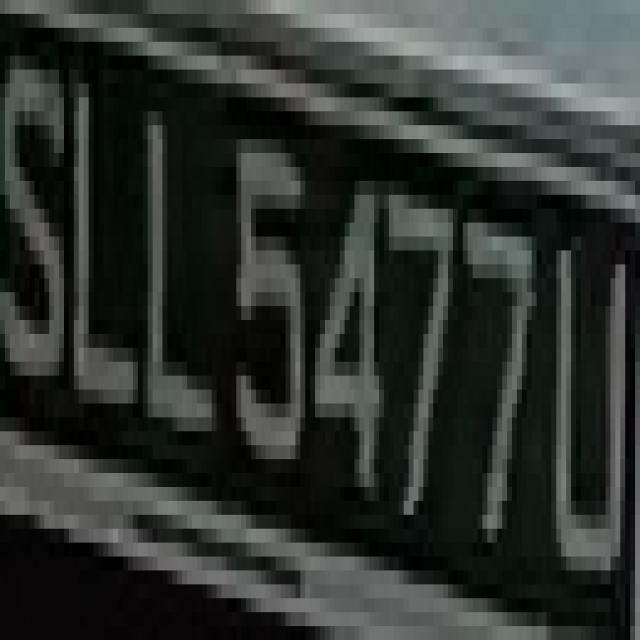4: (305, 111, 384, 529)
5: (217, 111, 310, 515)
7: (448, 195, 542, 556), (374, 139, 458, 529)
L: (138, 70, 212, 473), (64, 28, 133, 417)
S: (0, 14, 69, 376)
U: (532, 209, 635, 612)
